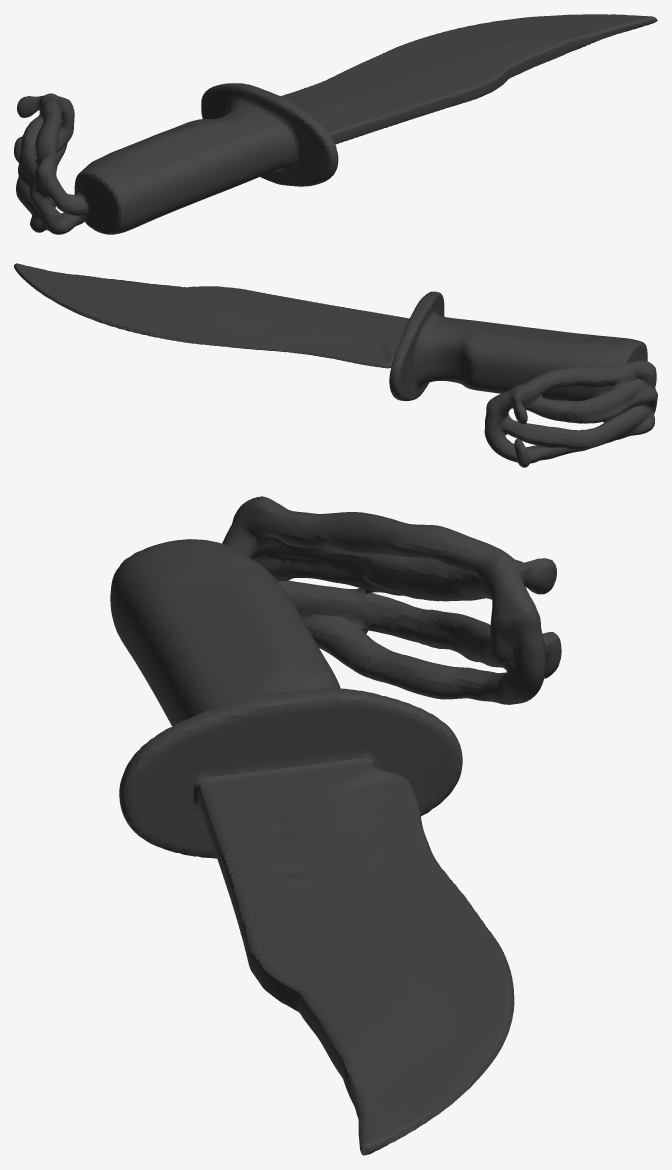
Rendered from knife.glb.
3 renders of one model, top to bottom at view 1: azimuth 30°, elevation 25°; view 2: azimuth 150°, elevation 25°; view 3: azimuth 270°, elevation 25°, orthographic. The views are drawn at different scales.
Parts seen in each view (by area): view 1: geometry_0; view 2: geometry_0; view 3: geometry_0.
Boxes of the visible parts, x1,y1,x2,y2 form: geometry_0: [14, 14, 657, 234]; geometry_0: [14, 263, 657, 467]; geometry_0: [110, 496, 561, 1155].
Bounding box in the file's own units: 0.46 × 0.0606 × 0.1457.
1 material, 1 textured.
